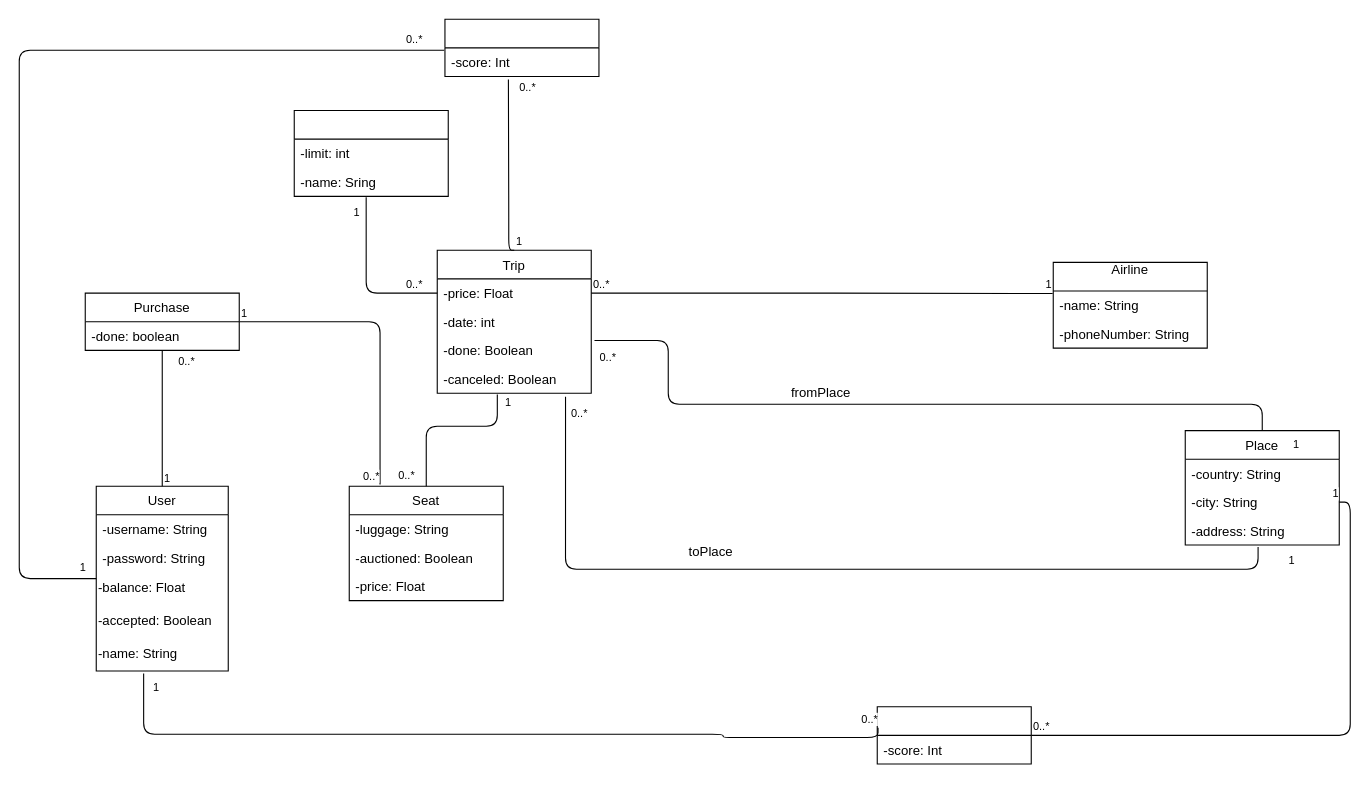
Image size: 1371x787. Some labels were removed from this diagram. The box of each missing label's shape, as (x1, y1, x2, y2) in pixels:
PlaceFeedback: (876, 706, 1031, 764)
Plane: (293, 109, 448, 196)
TripFeedback: (444, 18, 599, 76)
